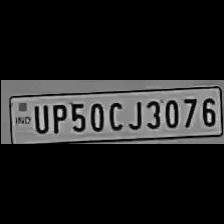0: (160, 96, 180, 128), (86, 100, 104, 132)
3: (142, 96, 160, 130)
5: (67, 100, 87, 134)
6: (196, 94, 218, 126)
7: (180, 95, 196, 127)
C: (104, 98, 124, 132)
J: (124, 96, 142, 130)
P: (47, 102, 66, 134)
U: (29, 102, 48, 134)
